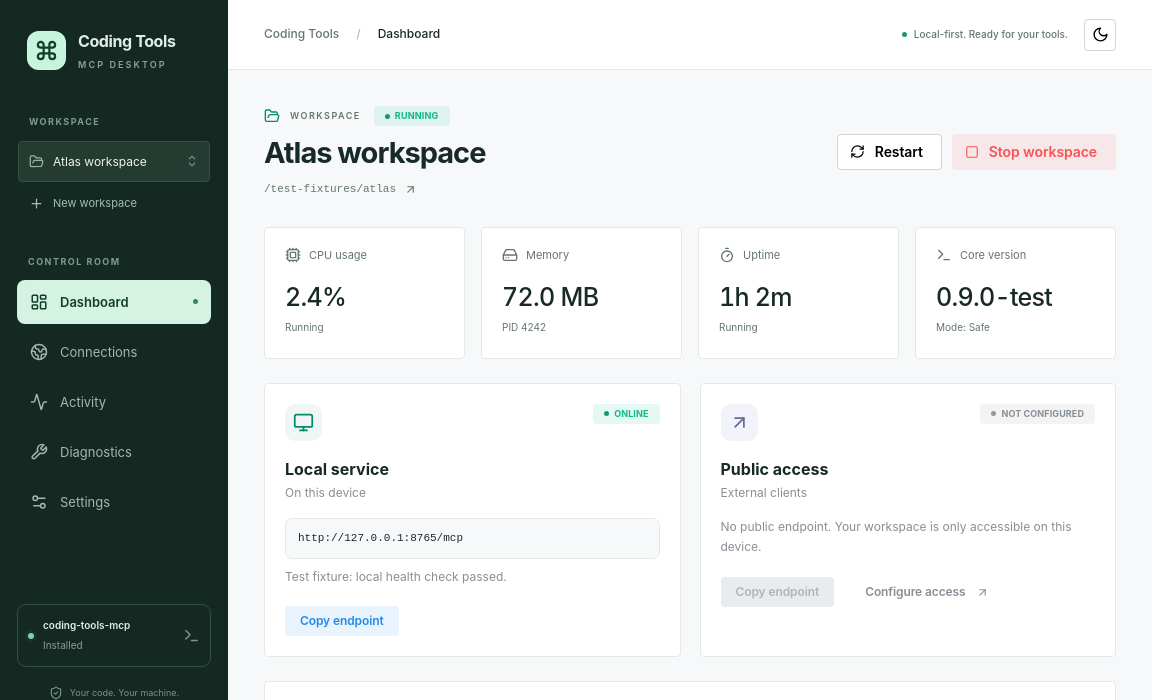
Test: desktop interrupted and delayed IPC flows › ignores old workspace logs after switching workspaces
Click the button "Diagnostics" at (114, 452), box [17, 430, 211, 474]
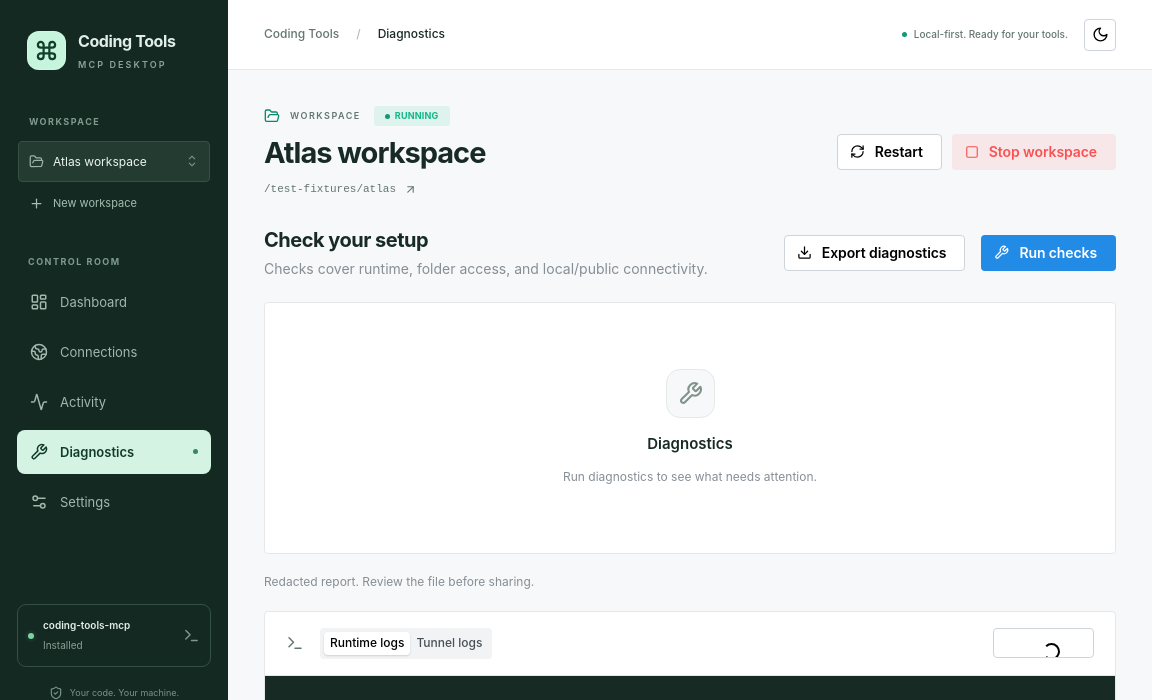
Click the field named "Choose workspace" at (114, 161), box [18, 141, 210, 182]
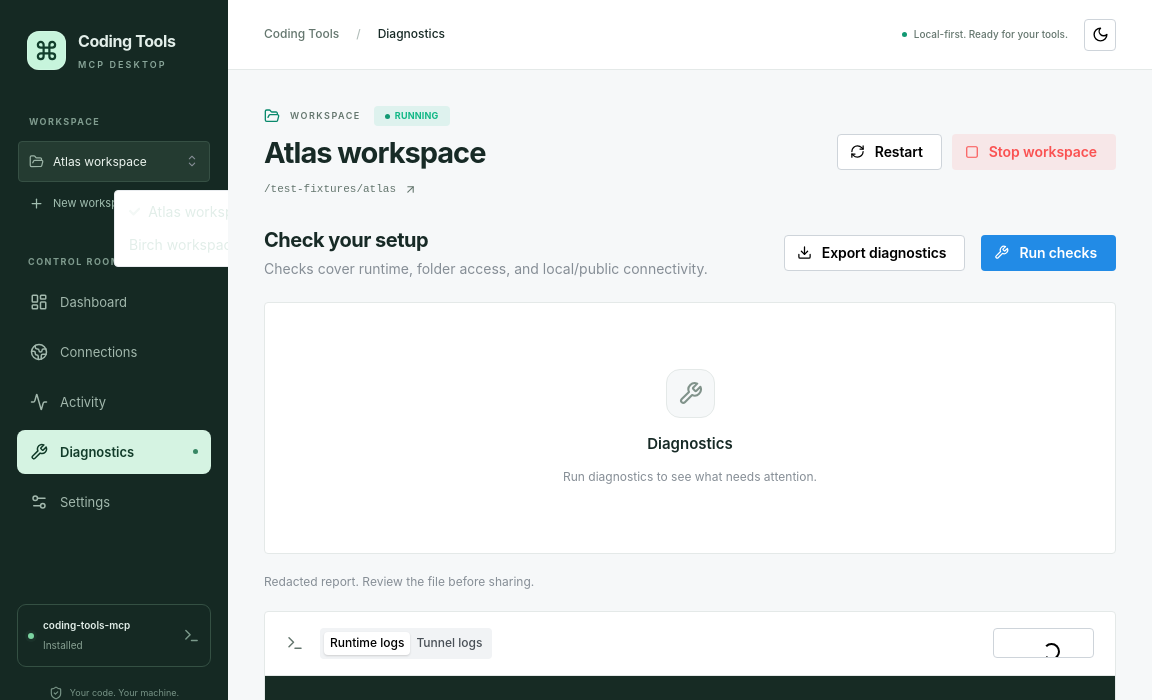
Click the option "Birch workspace" at (184, 245), box [129, 236, 240, 253]
(page scrolled)
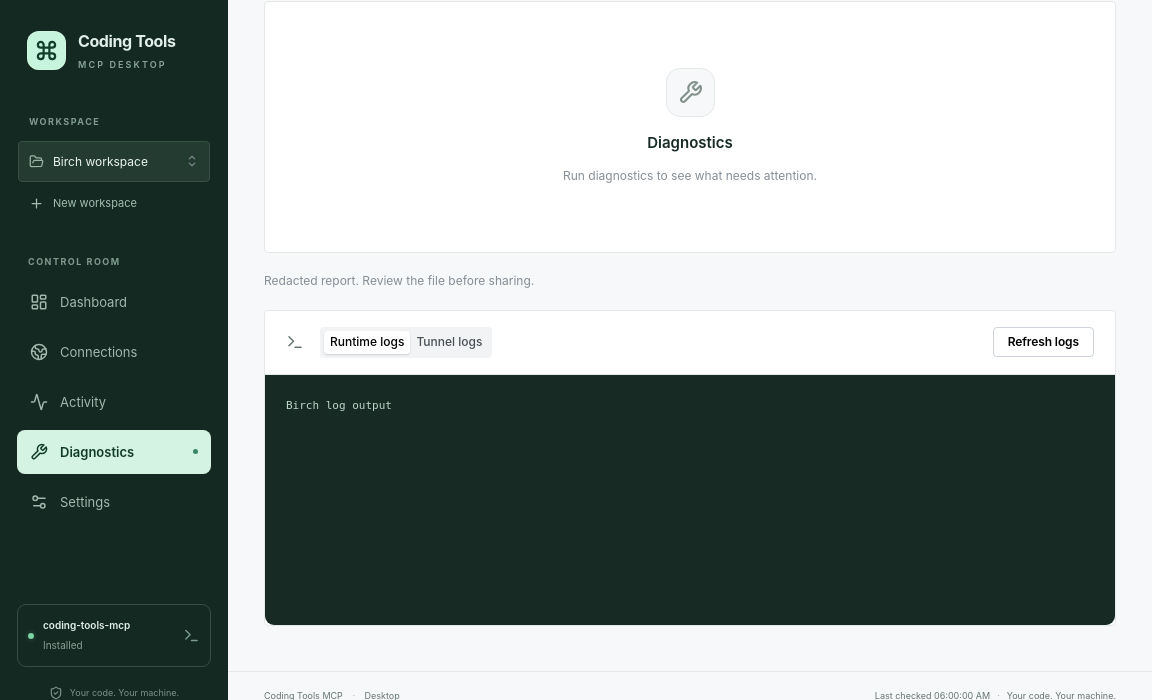
Expected: the text "Birch log output" is shown, [265, 375, 1115, 625]
